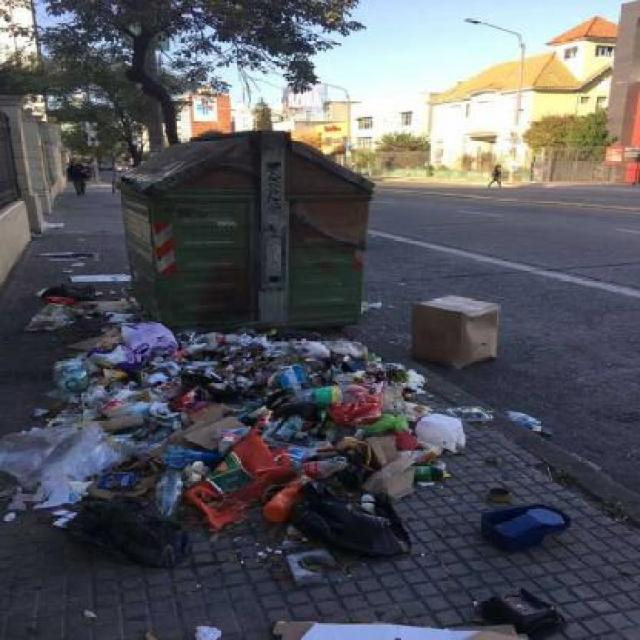garbage: (97, 279, 633, 616), (2, 297, 106, 562), (20, 238, 132, 394), (251, 602, 536, 640)
